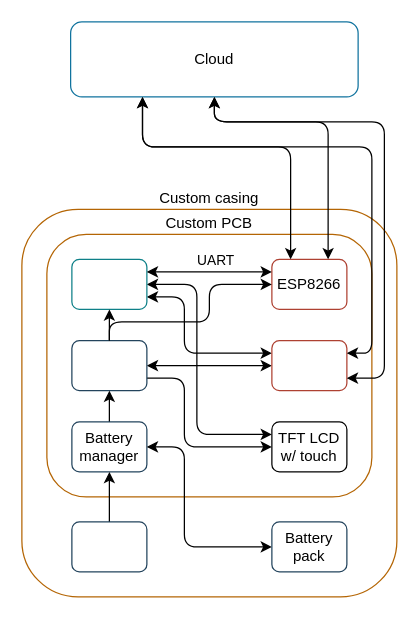
The diagram is 419 pixels wide and 619 high, and some of its shapes have lost their labels. The shapes that lost their labels are listed below. From the top down, each one's centre as x and y in pixels, then its label:
the point at 109,283: STM32
the point at 109,365: Voltage regulator
the point at 309,365: (optional) network port
the point at 109,546: Charing port
